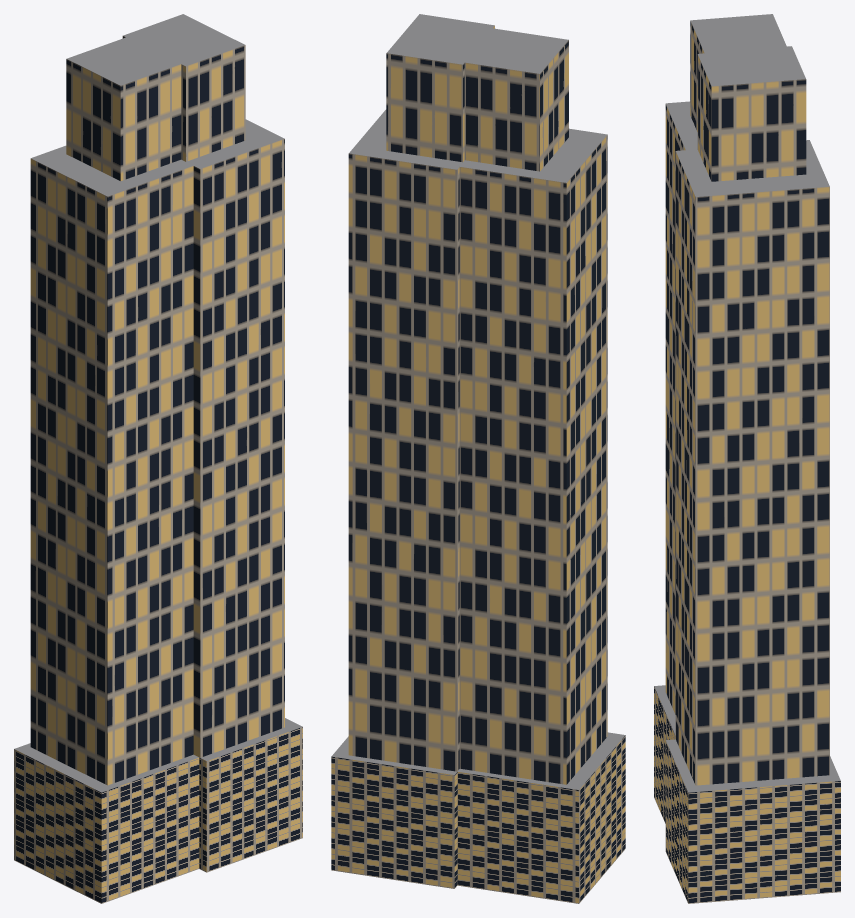
Rendered from vertus-10-george-street.glb.
3 renders of one model, left to right at view 1: azimuth 30°, elevation 25°; view 2: azimuth 150°, elevation 25°; view 3: azimuth 270°, elevation 25°, orthographic. The views are drawn at different scales.
Parts seen in each view (by area): view 1: vertus-10-george-street; view 2: vertus-10-george-street; view 3: vertus-10-george-street.
Boxes of the visible parts, box(x1,y1,x2,y2) form: vertus-10-george-street: box(14, 14, 302, 903); vertus-10-george-street: box(331, 14, 625, 903); vertus-10-george-street: box(654, 14, 840, 903).
Bounding box in the file's own units: 0.5153 × 1.64 × 0.3484.
2 materials, 1 textured.
